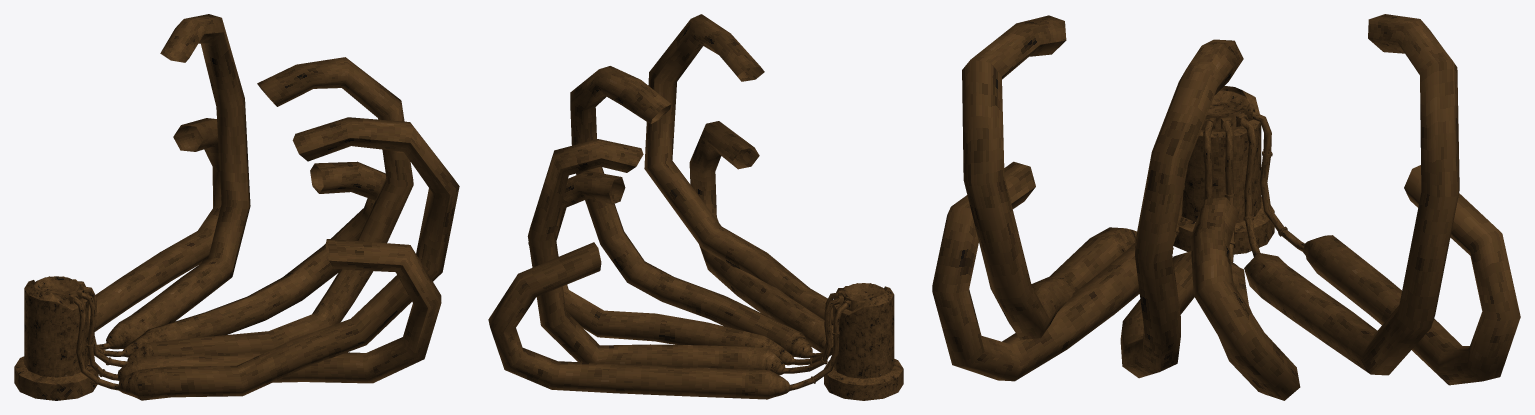
Rendered from Holder.glb.
3 renders of one model, left to right at view 1: azimuth 30°, elevation 25°; view 2: azimuth 150°, elevation 25°; view 3: azimuth 270°, elevation 25°, orthographic. The views are drawn at different scales.
Visible parts, largest first — view 1: Holder; view 2: Holder; view 3: Holder.
Part boxes in pixels (x1,y1,x2,y2): Holder: (14,14,459,400); Holder: (488,14,903,400); Holder: (932,14,1520,400).
Bounding box in the file's own units: 8.93 × 5.93 × 9.02.
1 material, 1 textured.
